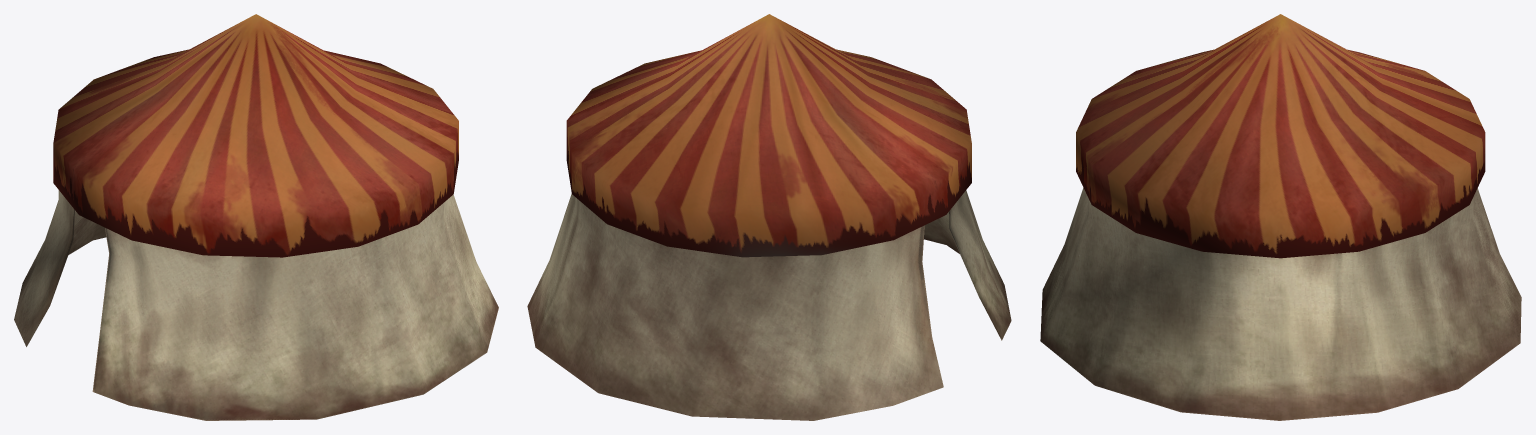
File: tent_02.FBX
The picture shows the model from 3 angles, left to right: view 1: azimuth 30°, elevation 25°; view 2: azimuth 150°, elevation 25°; view 3: azimuth 270°, elevation 25°; orthographic projection.
Visible parts, largest first — view 1: tent_02; view 2: tent_02; view 3: tent_02.
Boxes of the visible parts, x1=… form: tent_02: x1=14, y1=14, x2=498, y2=420; tent_02: x1=527, y1=14, x2=1011, y2=420; tent_02: x1=1040, y1=14, x2=1521, y2=420.
Bounding box in the file's own units: 125 × 87.96 × 126.
